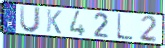2: (139, 15, 159, 43), (93, 12, 111, 40)
4: (69, 10, 87, 38)
K: (45, 8, 63, 35)
L: (116, 12, 134, 42)
U: (18, 5, 43, 35)
